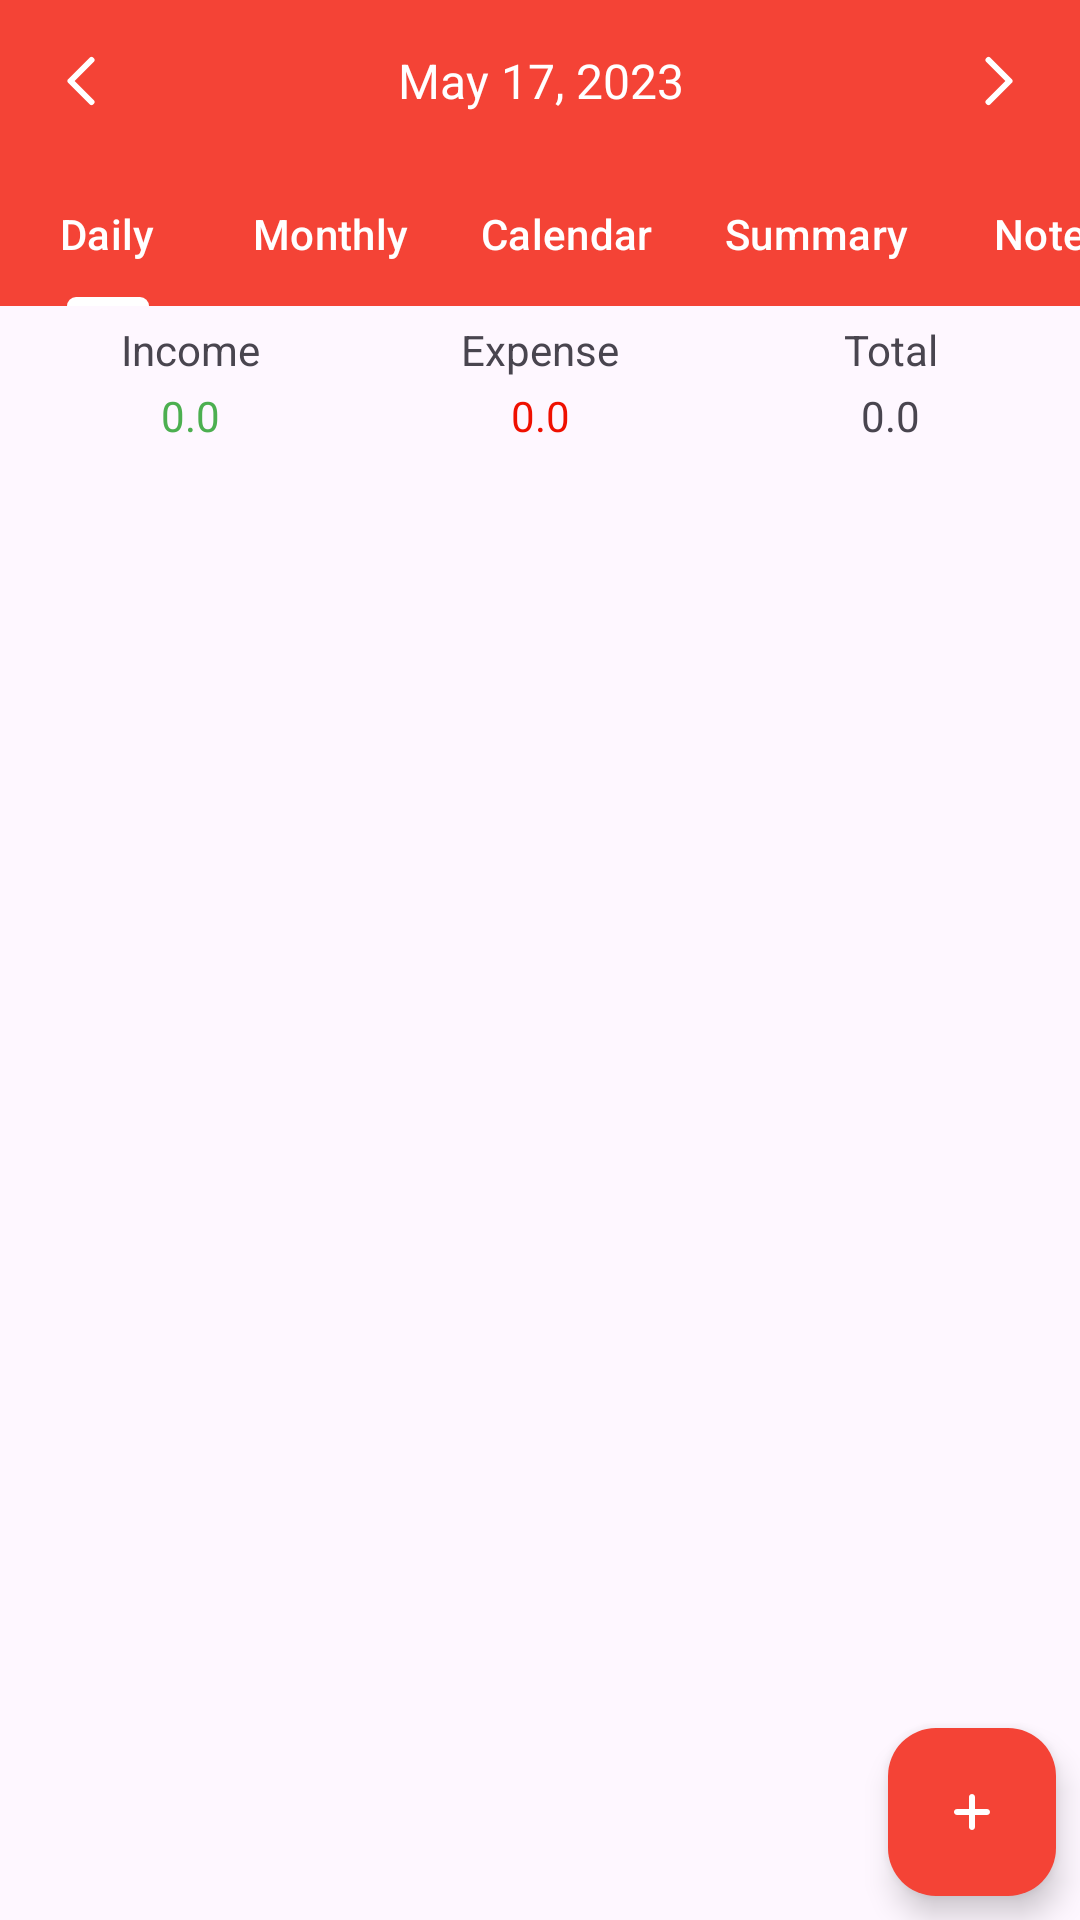

Screen size 1080 x 1920. Icon name, then its center in pixels as (x=x, y=y):
plus: (x=972, y=1812)
